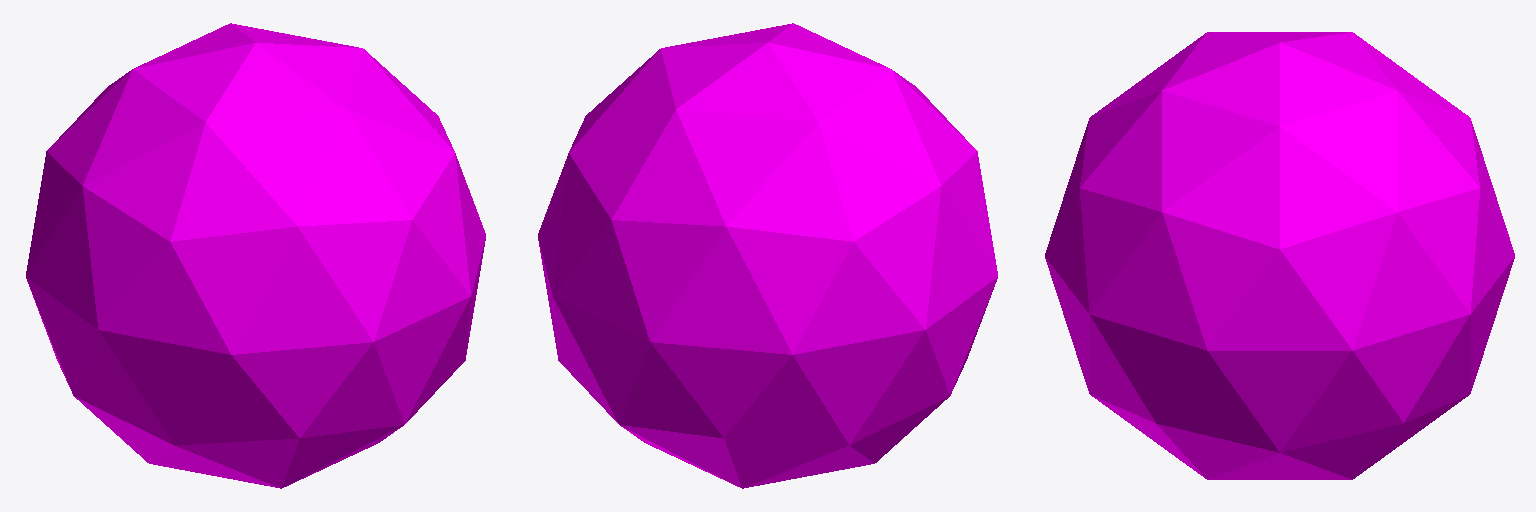
Rendered from ball.obj.
3 renders of one model, left to right at view 1: azimuth 30°, elevation 25°; view 2: azimuth 150°, elevation 25°; view 3: azimuth 270°, elevation 25°, orthographic.
Parts seen in each view (by area): view 1: Icosphere; view 2: Icosphere; view 3: Icosphere.
Boxes of the visible parts, x1,y1,x2,y2 form: Icosphere: [26, 23, 485, 488]; Icosphere: [538, 23, 997, 488]; Icosphere: [1045, 32, 1514, 479].
Bounding box in the file's own units: 0.4755 × 0.5 × 0.5.